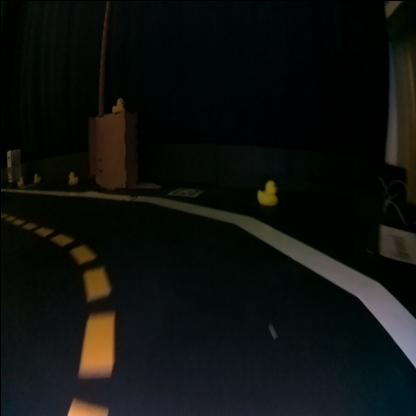Duckie: (255, 180, 275, 204), (112, 96, 121, 110), (67, 170, 75, 182), (16, 176, 22, 184), (32, 173, 38, 180)
Intersection sign: (6, 150, 10, 164)
QR code: (168, 186, 200, 194), (6, 166, 11, 180)
